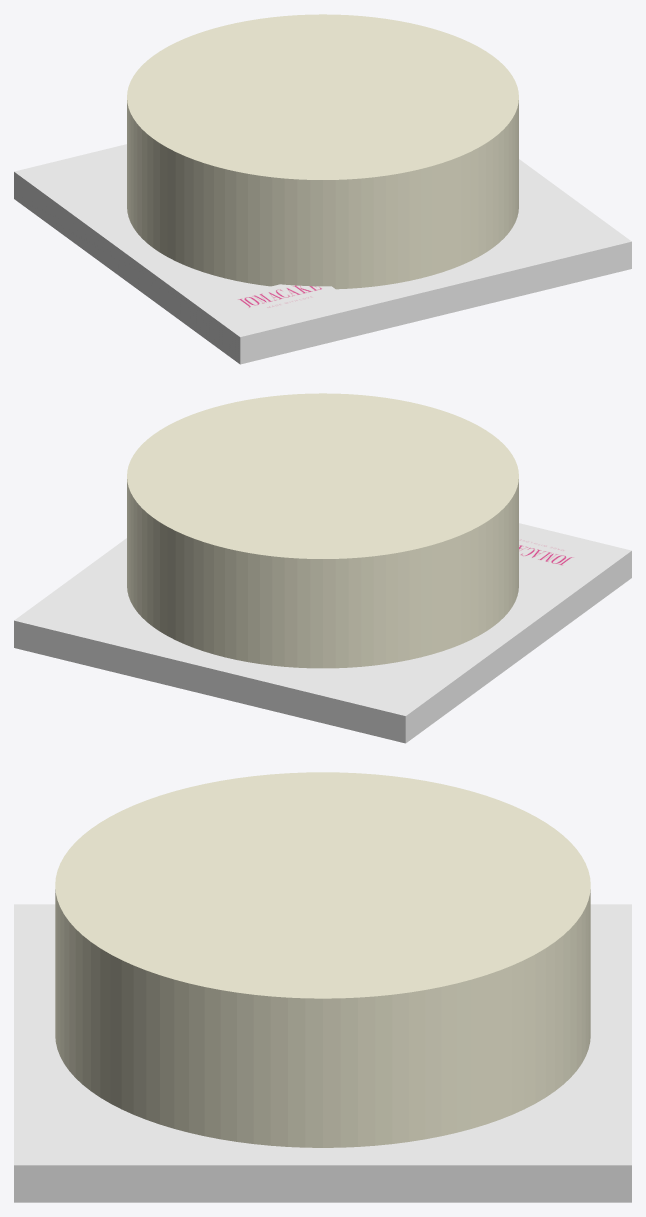
Rendered from cake_10in_layers2_v41.glb.
3 renders of one model, top to bottom at view 1: azimuth 30°, elevation 25°; view 2: azimuth 150°, elevation 25°; view 3: azimuth 270°, elevation 25°, orthographic. The views are drawn at different scales.
Visible parts, largest first — view 1: Cake, Board, Logo; view 2: Cake, Board, Logo; view 3: Cake, Board.
Boxes of the visible parts, x1,y1,x2,y2 form: Cake: (127,14,518,289); Board: (14,144,631,364); Logo: (223,284,343,318); Cake: (127,393,518,668); Board: (14,523,631,743); Logo: (519,533,594,571); Cake: (55,772,590,1147); Board: (14,904,631,1202).
Bounding box in the file's own units: 0.3 × 0.1 × 0.3.
